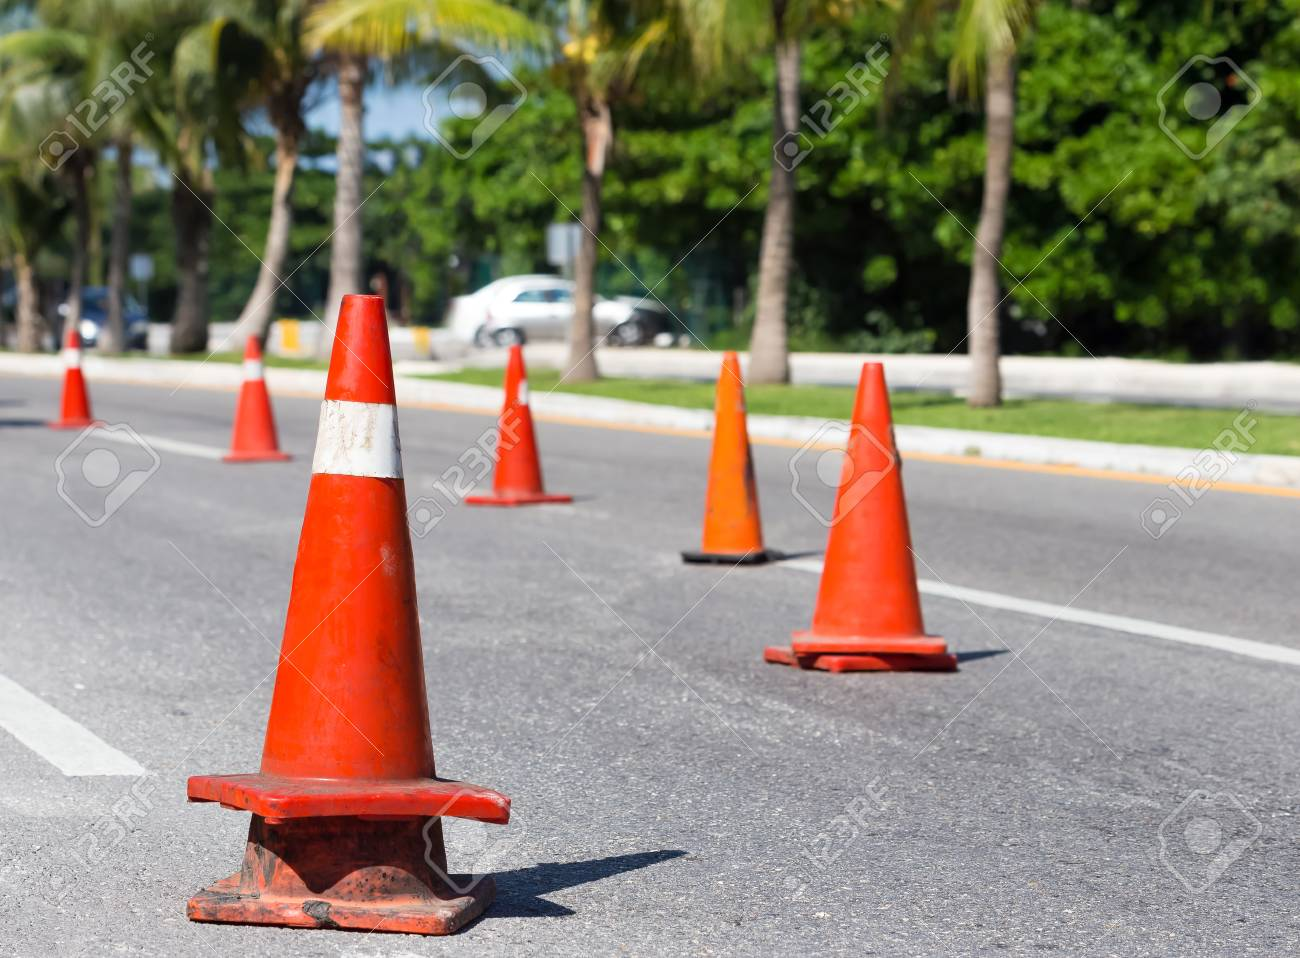cones: (231, 287, 504, 932), (775, 356, 959, 696), (681, 353, 789, 579), (491, 336, 567, 509)
